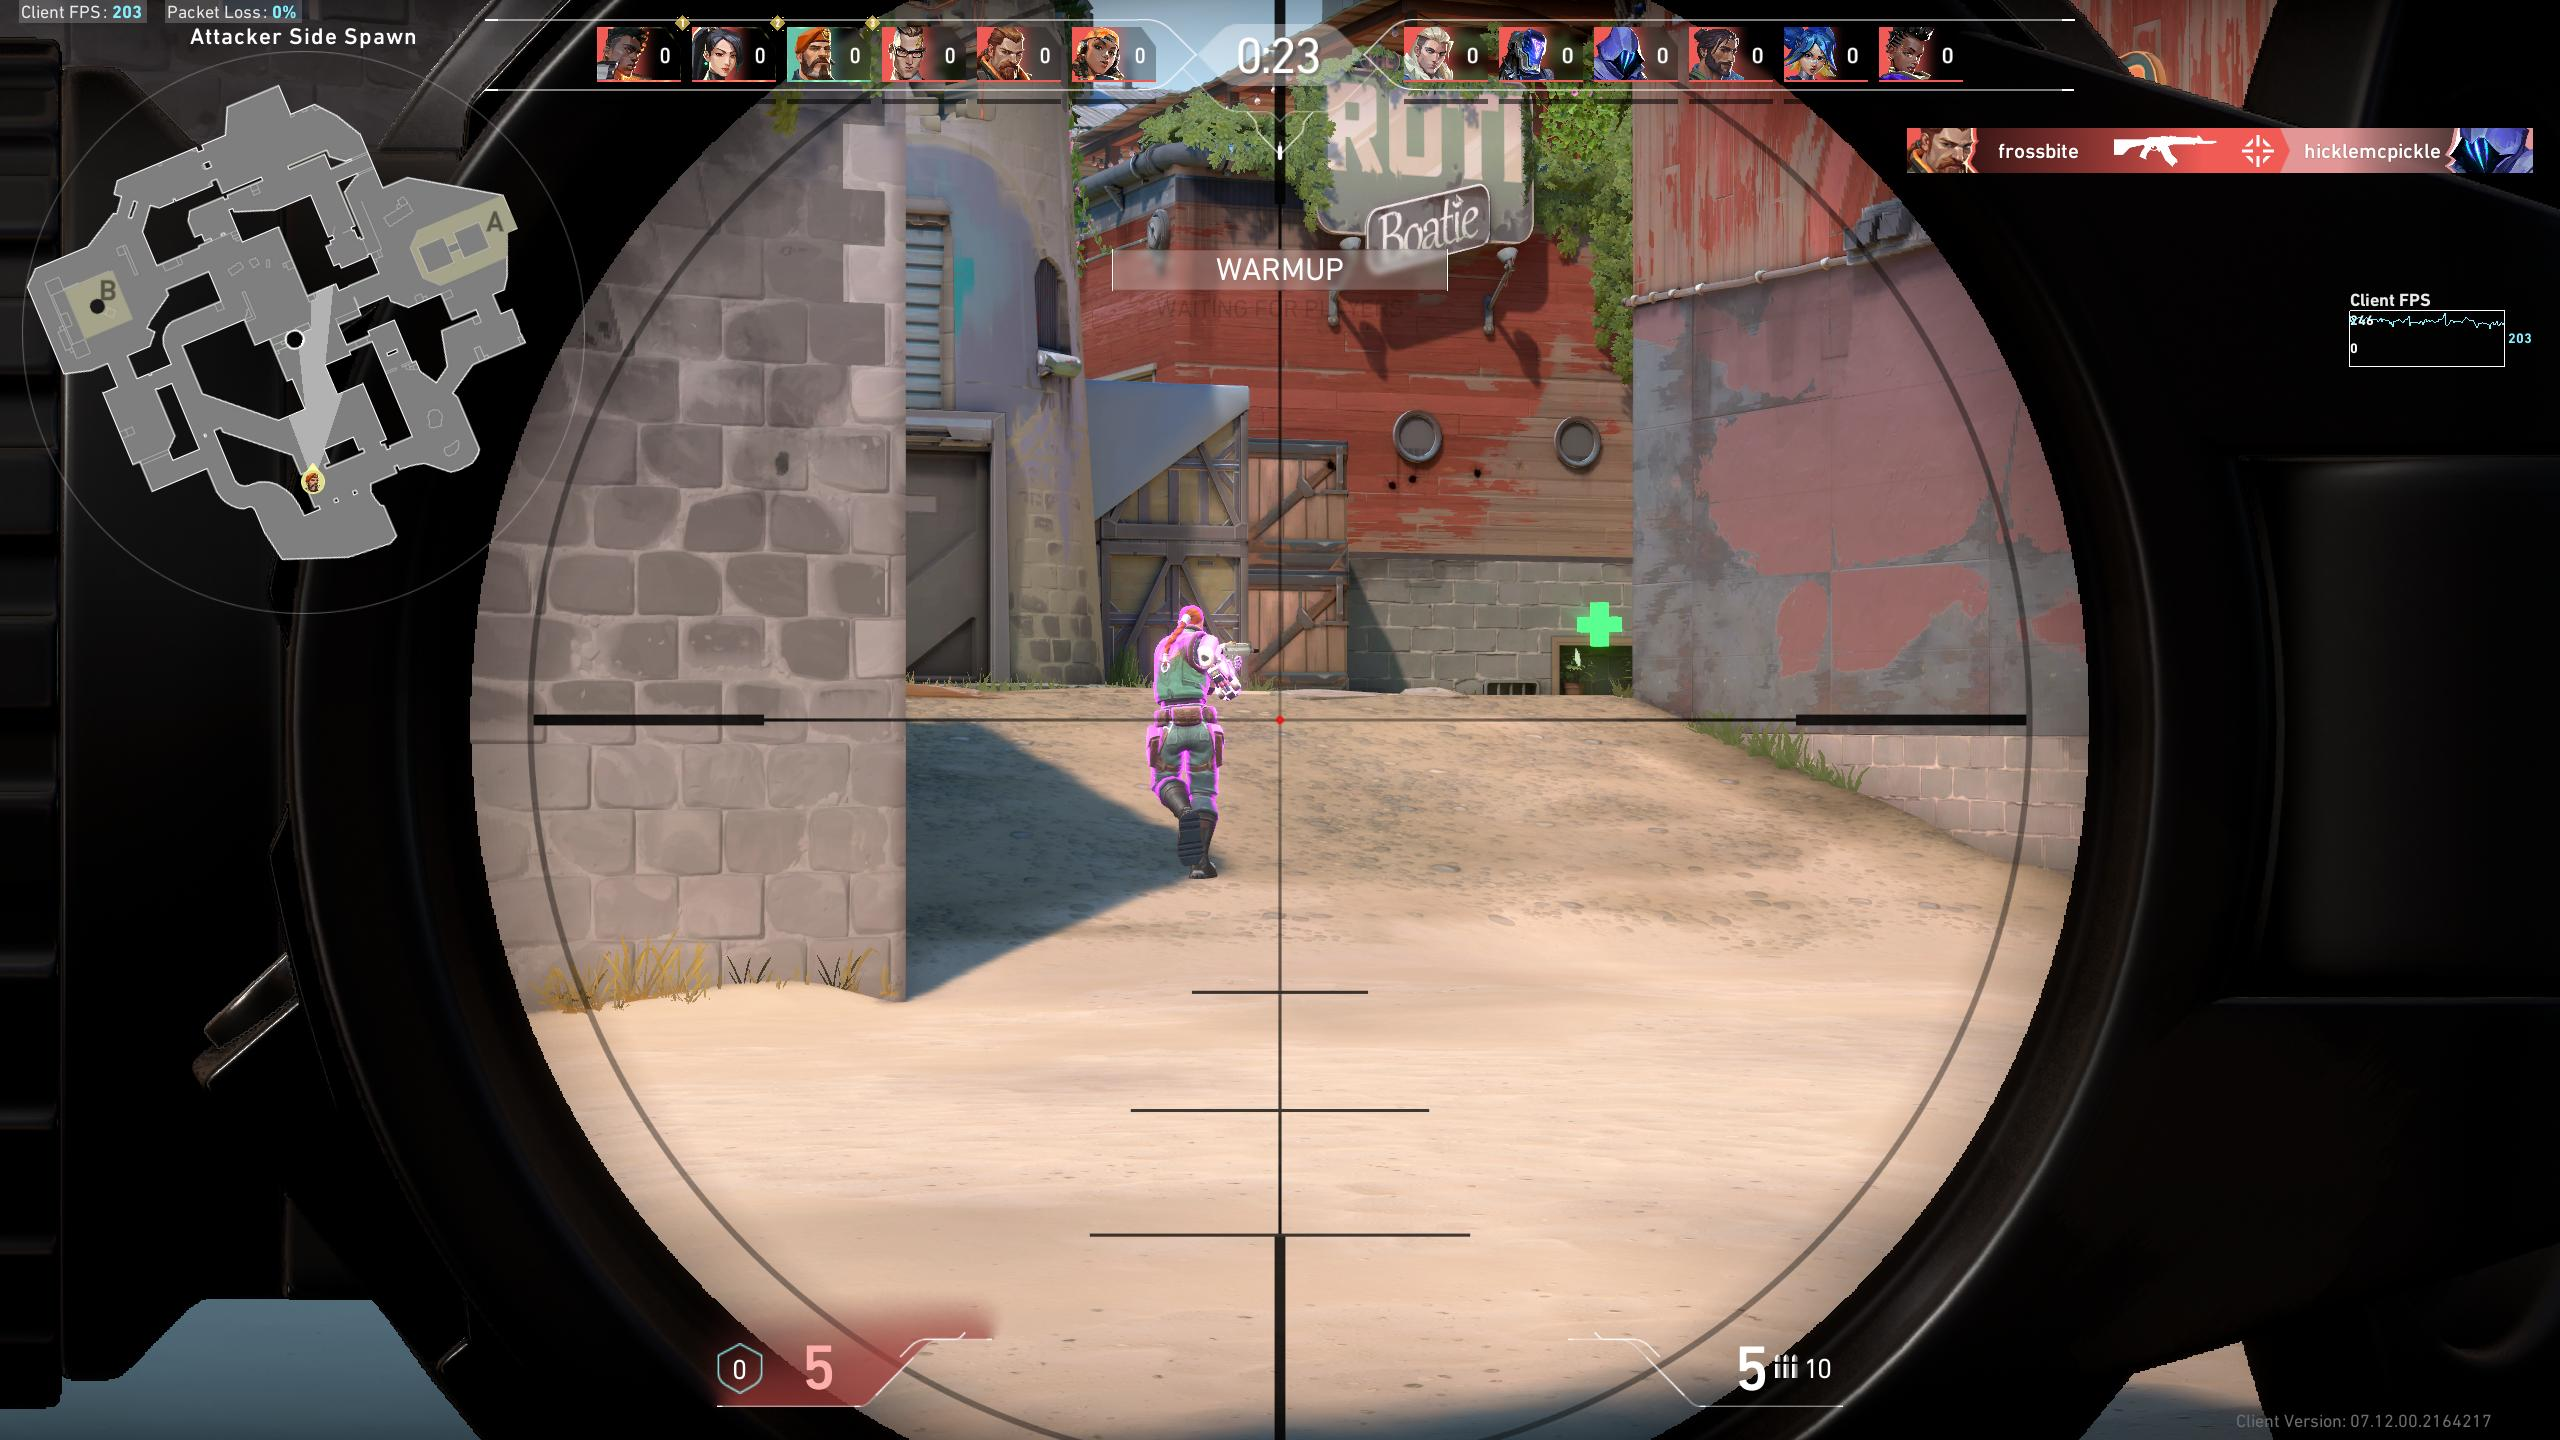enemyBody: (1146, 636, 1227, 754)
enemyHead: (1175, 605, 1208, 628)
